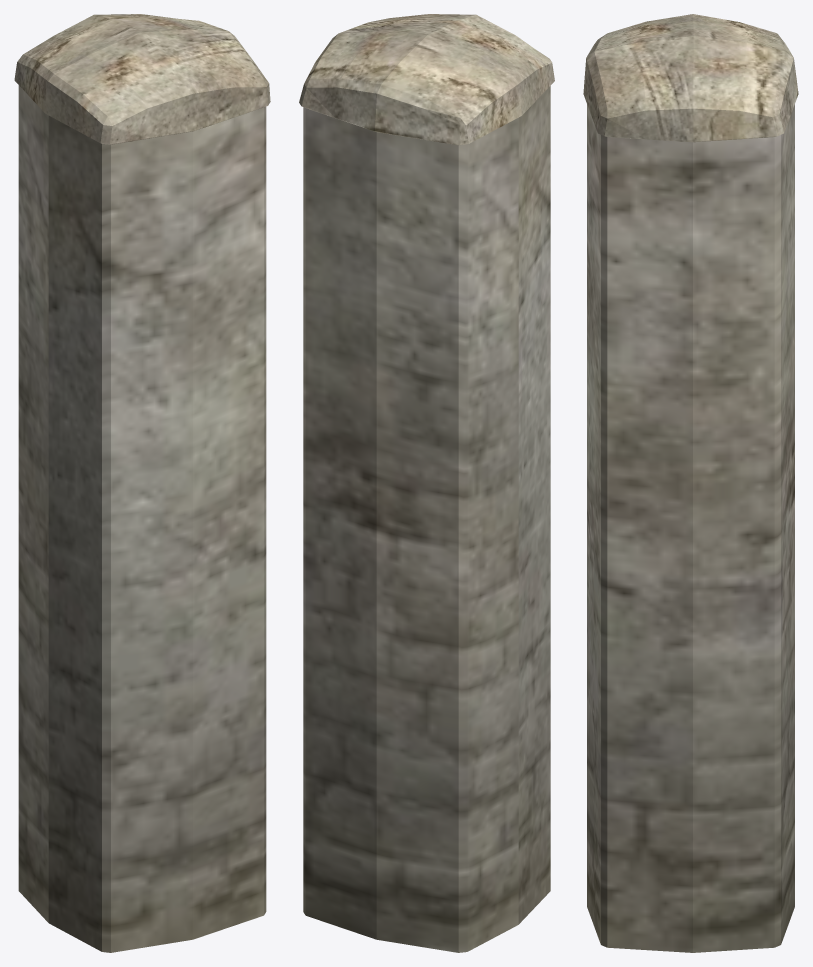
Rendered from TW2_5_ADDON_03_8-transformed.glb.
3 views of the same model, side by side, from view 1: azimuth 30°, elevation 25°; view 2: azimuth 150°, elevation 25°; view 3: azimuth 270°, elevation 25° (orthographic).
Visible parts, largest first — view 1: default; view 2: default; view 3: default.
Boxes of the visible parts, x1,y1,x2,y2 form: default: (14, 14, 270, 952); default: (299, 14, 554, 952); default: (583, 14, 798, 952).
Size of the model in its own units: 0.7184 by 3.1 by 0.6951.
2 materials, 2 textured.
